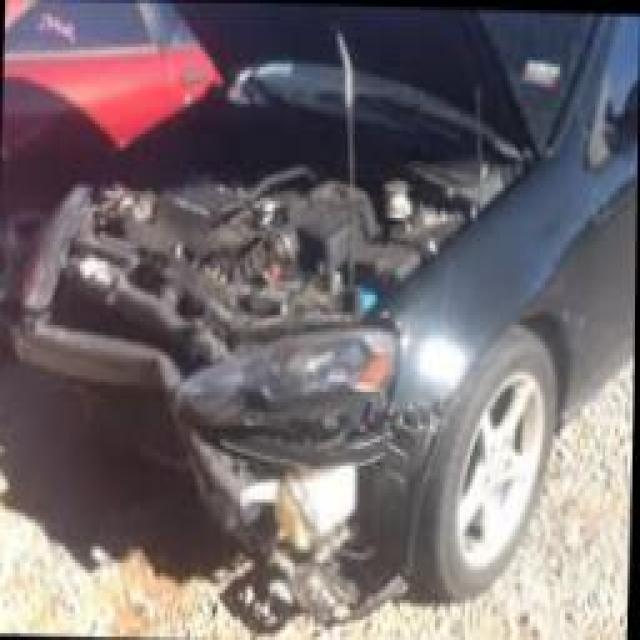Bonnet: (21, 82, 529, 332)
Bumper: (0, 191, 435, 629)
Light: (157, 327, 406, 444)
